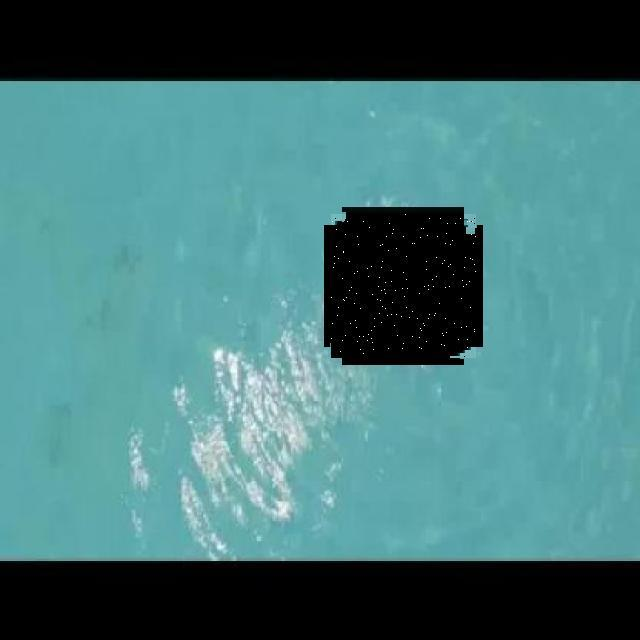swimming: (331, 214, 476, 358)
